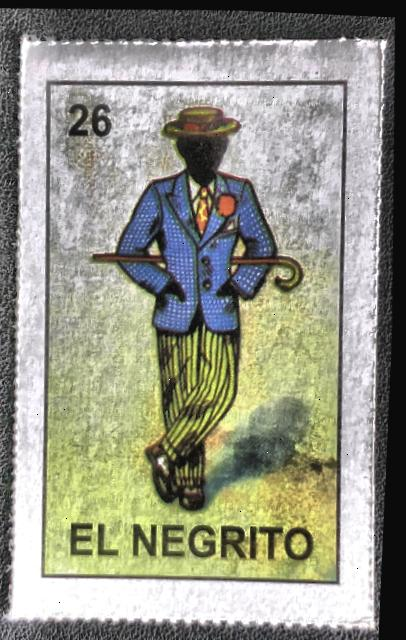El Negrito: (15, 41, 385, 621)
